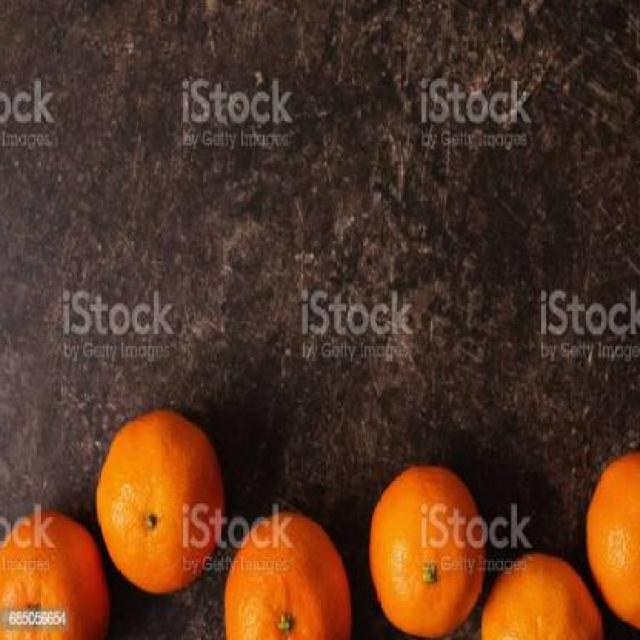Orange: (94, 406, 224, 594), (366, 463, 486, 639), (222, 508, 352, 638), (0, 504, 109, 638), (478, 551, 604, 638), (584, 449, 638, 634)
